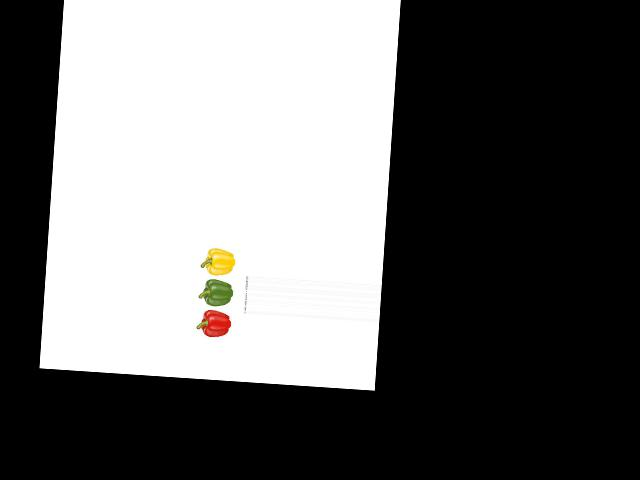bell_pepper: (200, 245, 239, 278)
